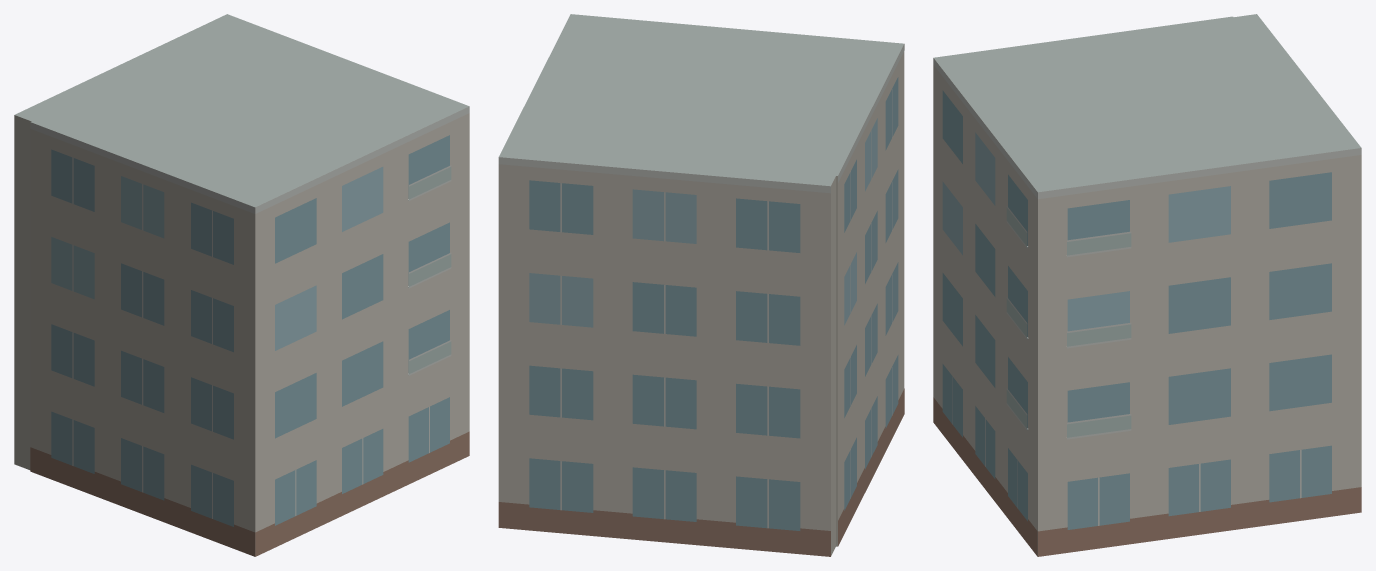
The model's file is survey-upis-33010418.glb.
3 views of the same model, side by side, from view 1: azimuth 30°, elevation 25°; view 2: azimuth 150°, elevation 25°; view 3: azimuth 270°, elevation 25° (orthographic). The views are drawn at different scales.
Parts seen in each view (by area): view 1: survey-upis-33010418.tmp; view 2: survey-upis-33010418.tmp; view 3: survey-upis-33010418.tmp.
Part boxes in pixels (box(x1,y1,x2,y2)): survey-upis-33010418.tmp: box(14, 14, 469, 556); survey-upis-33010418.tmp: box(498, 14, 904, 556); survey-upis-33010418.tmp: box(933, 14, 1361, 556).
Size of the model in its own units: 13.49 by 12.85 by 13.69.
